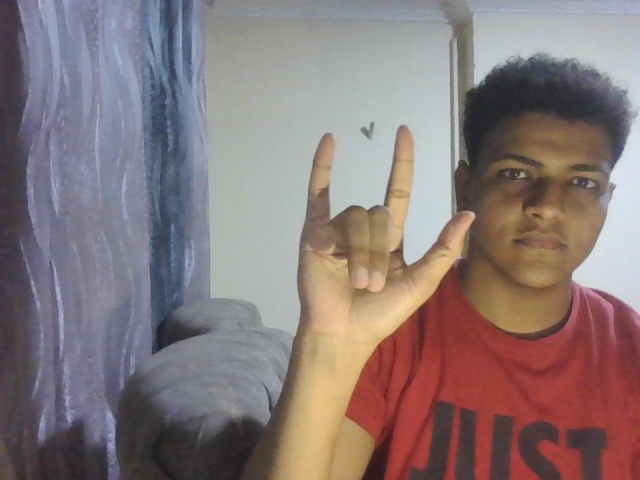iloveyou: (286, 119, 477, 354)
